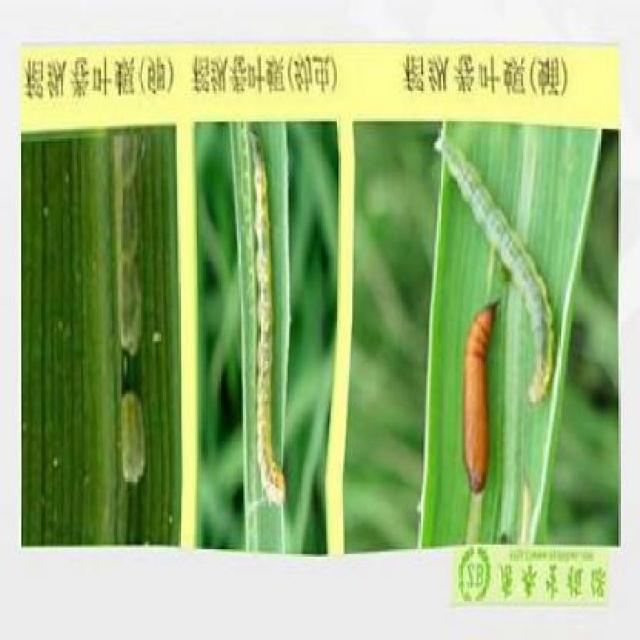leaf-folder: (412, 128, 573, 512), (233, 133, 304, 510), (98, 137, 152, 515)
